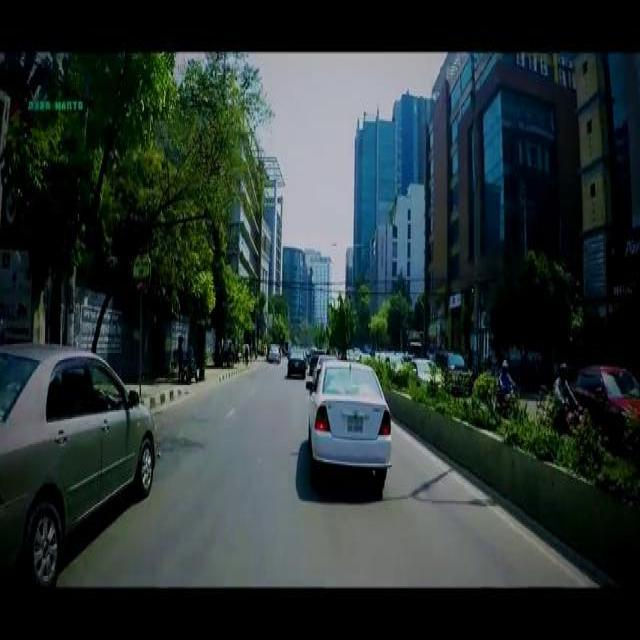car: (0, 340, 159, 582), (306, 359, 390, 470), (572, 360, 638, 440), (407, 357, 443, 386), (288, 348, 304, 374), (268, 343, 280, 361)
minivan: (434, 348, 472, 385)
motorbike: (544, 397, 582, 432), (494, 381, 518, 416)
